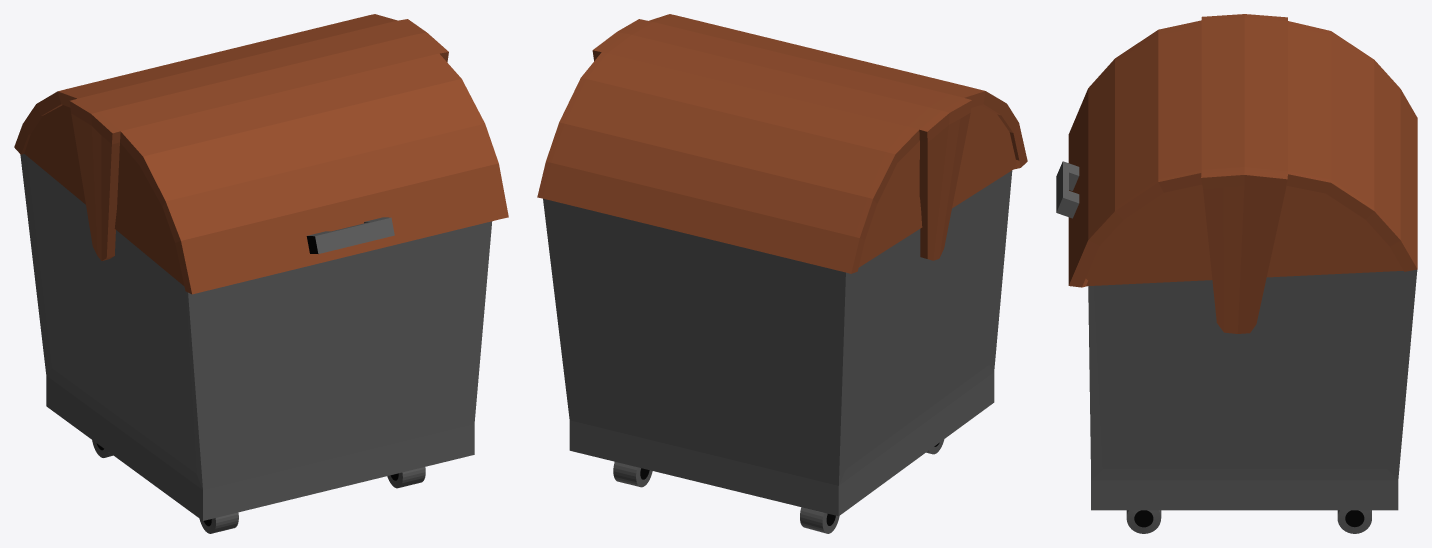
File: garbageHolderBrown.fbx
3 renders of one model, left to right at view 1: azimuth 30°, elevation 25°; view 2: azimuth 150°, elevation 25°; view 3: azimuth 270°, elevation 25°, orthographic. The views are drawn at different scales.
Parts seen in each view (by area): view 1: Cylinder.002; view 2: Cylinder.002; view 3: Cylinder.002.
Part boxes in pixels (x1,y1,x2,y2): Cylinder.002: [14, 14, 508, 533]; Cylinder.002: [537, 14, 1027, 533]; Cylinder.002: [1056, 14, 1417, 533].
Bounding box in the file's own units: 222 × 250 × 209.
